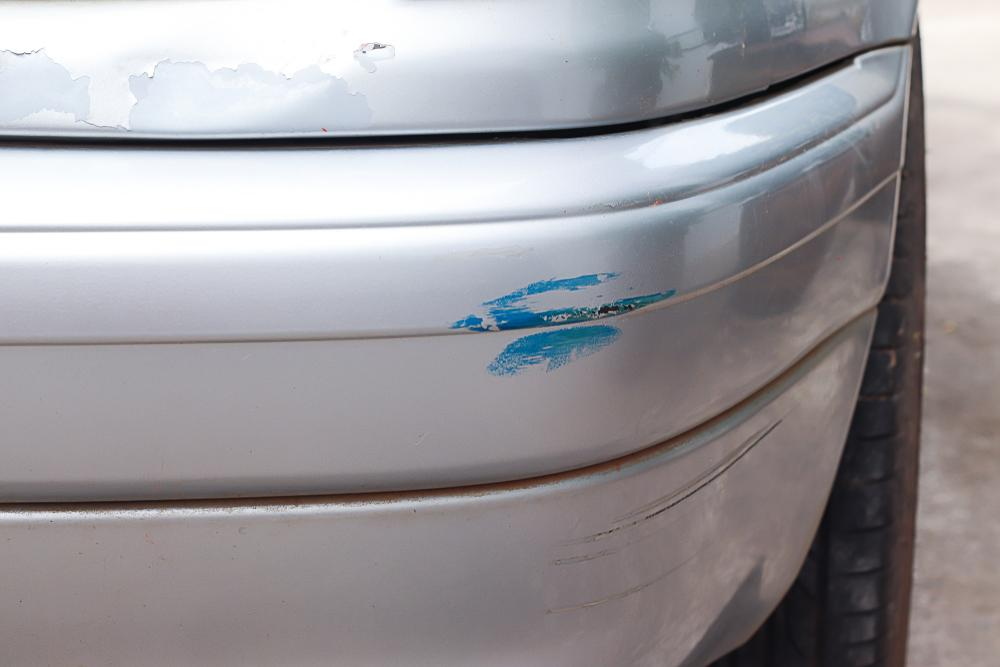dent: (124, 49, 350, 132)
scratch: (543, 409, 793, 612), (442, 271, 690, 385)
